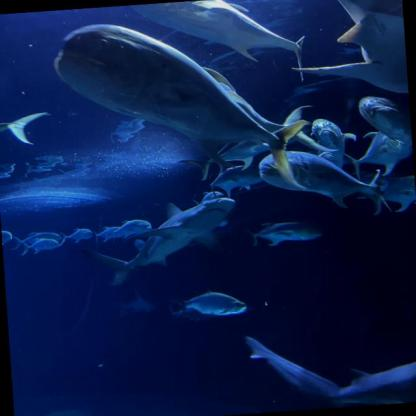fish: (53, 10, 313, 203), (124, 0, 309, 94), (258, 143, 386, 224), (180, 136, 282, 181), (345, 127, 414, 177), (0, 110, 53, 172), (358, 92, 412, 152), (169, 288, 248, 322), (355, 173, 415, 216), (309, 116, 357, 169), (245, 219, 321, 248), (209, 164, 264, 197), (10, 230, 66, 254), (114, 218, 152, 238), (92, 225, 123, 242), (64, 228, 92, 243), (1, 228, 13, 247)
shark: (245, 323, 415, 413), (77, 196, 239, 289), (284, 0, 409, 103), (116, 288, 155, 316)
